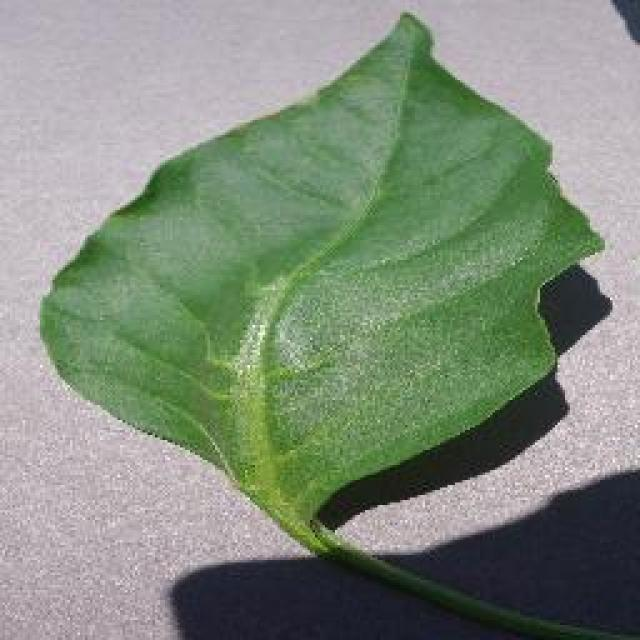Leaf: (121, 93, 488, 421)
